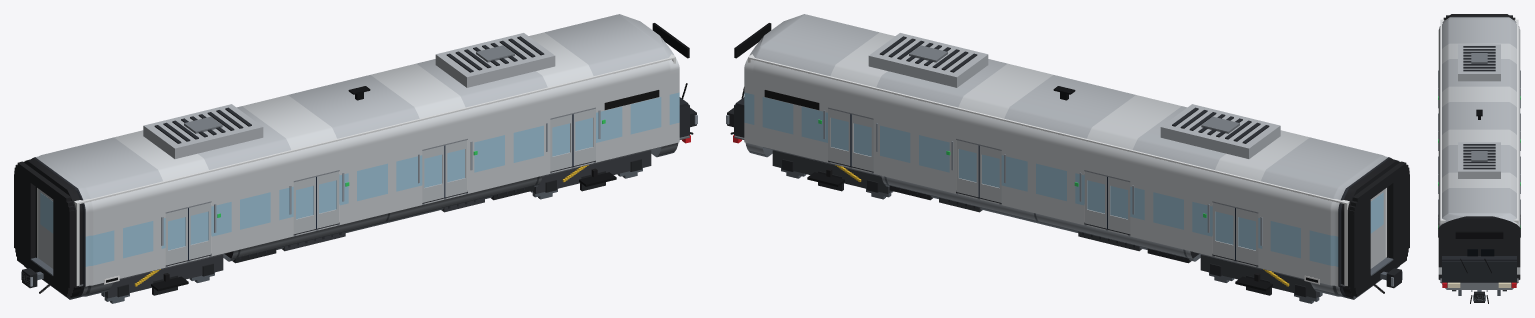
File: r160_front.obj
3 renders of one model, left to right at view 1: azimuth 30°, elevation 25°; view 2: azimuth 150°, elevation 25°; view 3: azimuth 270°, elevation 25°, orthographic. The views are drawn at different scales.
Parts seen in each view (by area): view 1: SHELL, SHELL_roof, SHELL_diaphragm, BOGEY_REAR, BOGEY_FRONT, SHELL_ceiling, FRAME, EXTERNAL_DOOR_3_CG_DR1_TOGGLE_TL_-0.61_X, EXTERNAL_DOOR_21_CG_DR4_TOGGLE_TL_-0.61_X, EXTERNAL_DOOR_9_CG_DR2_TOGGLE_TL_-0.61_X, EXTERNAL_DOOR_15_CG_DR3_TOGGLE_TL_-0.61_X, EXTERNAL_DOOR_16_CG_DR3_TOGGLE_TL_0.61_X (+6 smaller); view 2: SHELL, SHELL_roof, SHELL_diaphragm, BOGEY_REAR, BOGEY_FRONT, SHELL_ceiling, FRAME, EXTERNAL_DOOR_6_CG_DL1_TOGGLE_TL_-0.61_X, EXTERNAL_DOOR_24_CG_DL4_TOGGLE_TL_-0.61_X, EXTERNAL_DOOR_12_CG_DL2_TOGGLE_TL_-0.61_X, EXTERNAL_DOOR_18_CG_DL3_TOGGLE_TL_-0.61_X, EXTERNAL_DOOR_19_CG_DL3_TOGGLE_TL_0.61_X (+6 smaller); view 3: SHELL, SHELL_roof, SHELL_desk, SHELL_ceiling, SHELL_destbox, SHELL_handle, FRAME, HEADLIGHT_1.
Part boxes in pixels (bbox=[...]): SHELL: bbox=[24, 14, 679, 299]; SHELL_roof: bbox=[143, 33, 555, 158]; SHELL_diaphragm: bbox=[14, 161, 74, 296]; BOGEY_REAR: bbox=[104, 254, 223, 298]; BOGEY_FRONT: bbox=[532, 150, 651, 193]; SHELL_ceiling: bbox=[22, 56, 673, 204]; FRAME: bbox=[21, 108, 697, 293]; EXTERNAL_DOOR_3_CG_DR1_TOGGLE_TL_-0.61_X: bbox=[165, 208, 188, 265]; EXTERNAL_DOOR_21_CG_DR4_TOGGLE_TL_-0.61_X: bbox=[550, 114, 573, 171]; EXTERNAL_DOOR_9_CG_DR2_TOGGLE_TL_-0.61_X: bbox=[293, 177, 316, 234]; EXTERNAL_DOOR_15_CG_DR3_TOGGLE_TL_-0.61_X: bbox=[422, 145, 445, 202]; EXTERNAL_DOOR_16_CG_DR3_TOGGLE_TL_0.61_X: bbox=[445, 140, 467, 197]; SHELL: bbox=[744, 14, 1399, 299]; SHELL_roof: bbox=[868, 33, 1280, 158]; SHELL_diaphragm: bbox=[1349, 161, 1409, 296]; BOGEY_REAR: bbox=[1200, 254, 1319, 298]; BOGEY_FRONT: bbox=[772, 150, 891, 193]; SHELL_ceiling: bbox=[750, 56, 1401, 203]; FRAME: bbox=[726, 108, 1402, 293]; EXTERNAL_DOOR_6_CG_DL1_TOGGLE_TL_-0.61_X: bbox=[1235, 208, 1258, 265]; EXTERNAL_DOOR_24_CG_DL4_TOGGLE_TL_-0.61_X: bbox=[850, 114, 873, 171]; EXTERNAL_DOOR_12_CG_DL2_TOGGLE_TL_-0.61_X: bbox=[1107, 177, 1130, 234]; EXTERNAL_DOOR_18_CG_DL3_TOGGLE_TL_-0.61_X: bbox=[978, 145, 1001, 202]; EXTERNAL_DOOR_19_CG_DL3_TOGGLE_TL_0.61_X: bbox=[956, 140, 978, 197]; SHELL: bbox=[1438, 14, 1520, 289]; SHELL_roof: bbox=[1458, 44, 1500, 178]; SHELL_desk: bbox=[1442, 249, 1516, 282]; SHELL_ceiling: bbox=[1440, 20, 1518, 219]; SHELL_destbox: bbox=[1455, 231, 1503, 238]; SHELL_handle: bbox=[1438, 70, 1520, 236]; FRAME: bbox=[1470, 289, 1488, 303]; HEADLIGHT_1: bbox=[1448, 282, 1510, 287].
Size of the model in its own units: 19.64 by 4.01 by 3.08.
Materials: 1 (1 with a texture image).
